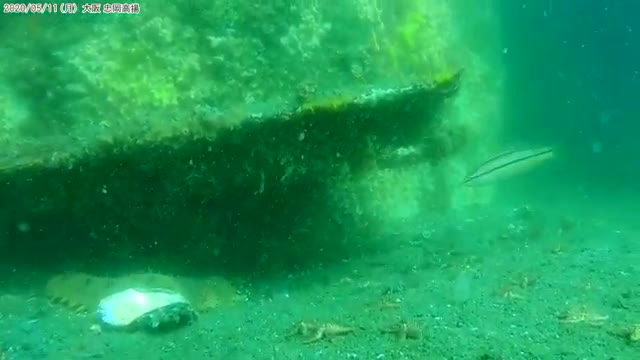bera: (457, 142, 570, 189)
